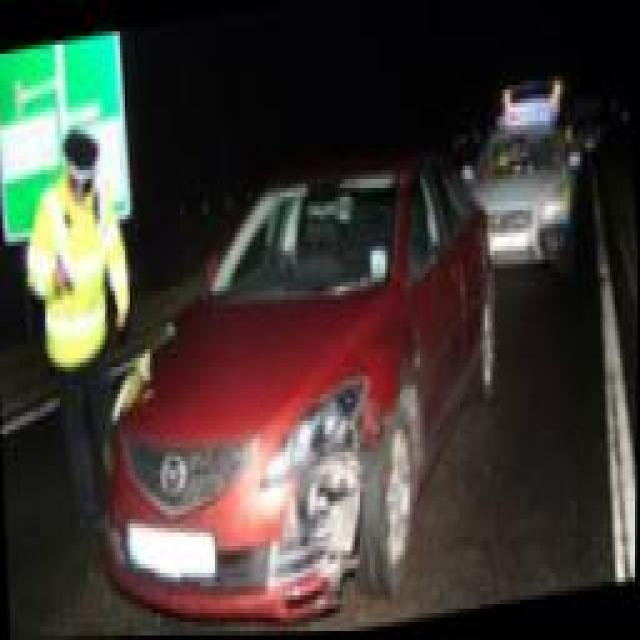replaceable: (281, 402, 364, 590)
